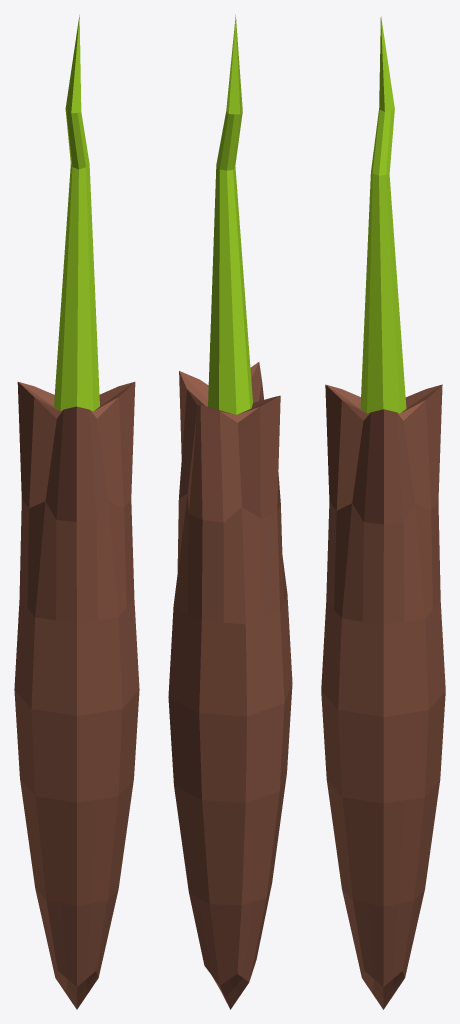
Rendered from tohum1sprout4.fbx.
The picture shows the model from 3 angles, left to right: view 1: azimuth 90°, elevation 25°; view 2: azimuth 150°, elevation 25°; view 3: azimuth 270°, elevation 25°; orthographic projection.
Parts seen in each view (by area): view 1: Cube; view 2: Cube; view 3: Cube.
Part boxes in pixels (box(x1,y1,x2,y2)): Cube: box(14, 15, 139, 1009); Cube: box(168, 14, 292, 1009); Cube: box(321, 16, 445, 1009).
Bounding box in the file's own units: 19.39 × 19.39 × 171.
